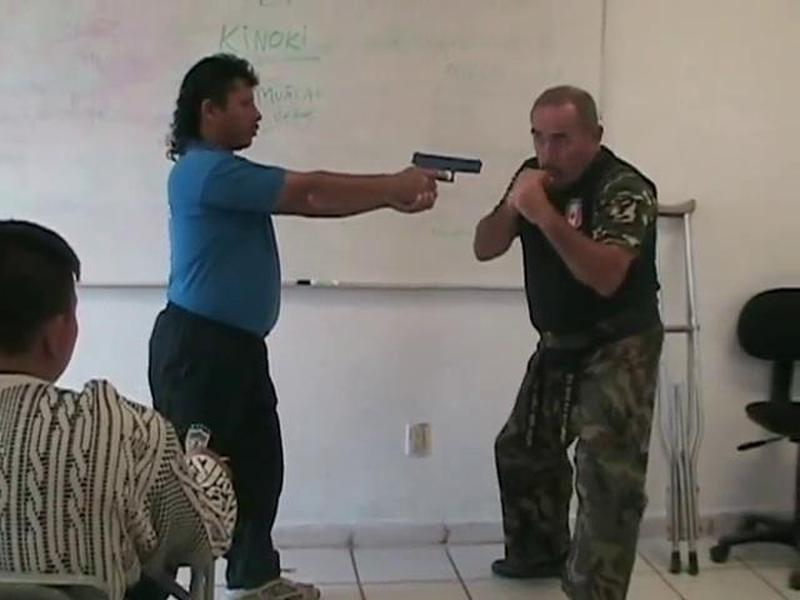Pistola: (393, 145, 486, 212)
